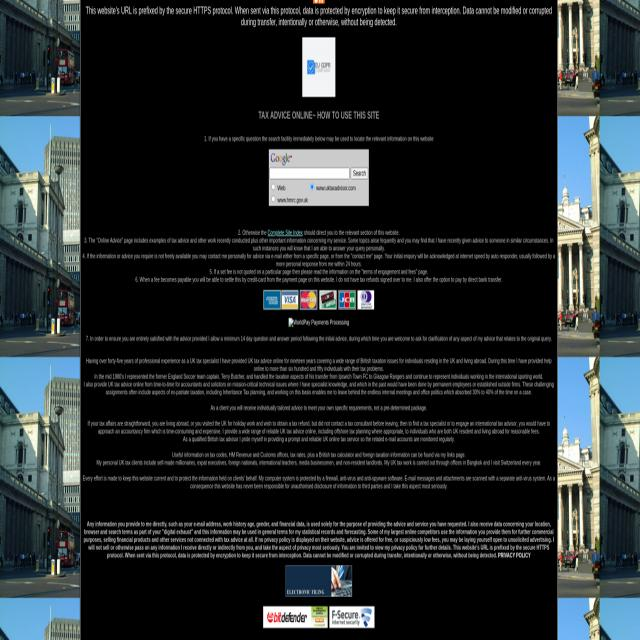button: (302, 37, 336, 97), (286, 566, 352, 596), (263, 606, 311, 628), (330, 606, 374, 628), (289, 318, 349, 327), (269, 150, 292, 168), (311, 606, 328, 628), (263, 290, 281, 310), (281, 290, 299, 310), (300, 290, 318, 310), (319, 290, 337, 310), (338, 290, 356, 310), (357, 290, 375, 310), (351, 168, 368, 179)
field: (270, 168, 350, 179)
